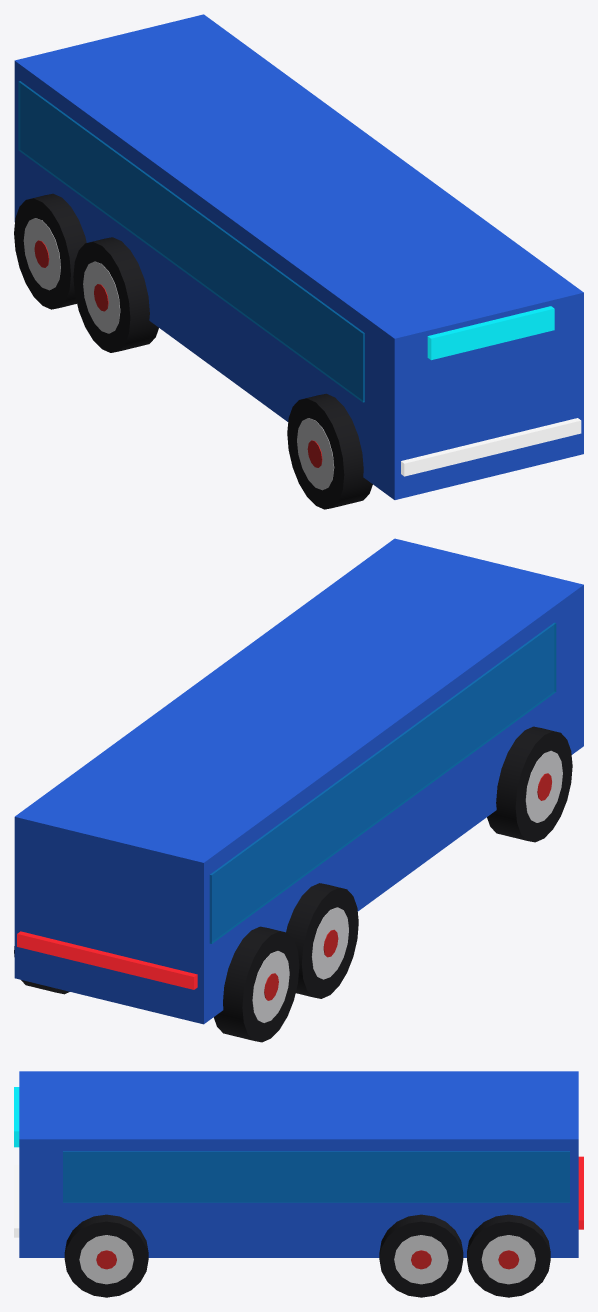
Rendered from bus.glb.
The picture shows the model from 3 angles, top to bottom: view 1: azimuth 30°, elevation 25°; view 2: azimuth 150°, elevation 25°; view 3: azimuth 270°, elevation 25°; orthographic projection. The views are drawn at different scales.
Size of the model in its own units: 0.3433 by 0.2929 by 1.
